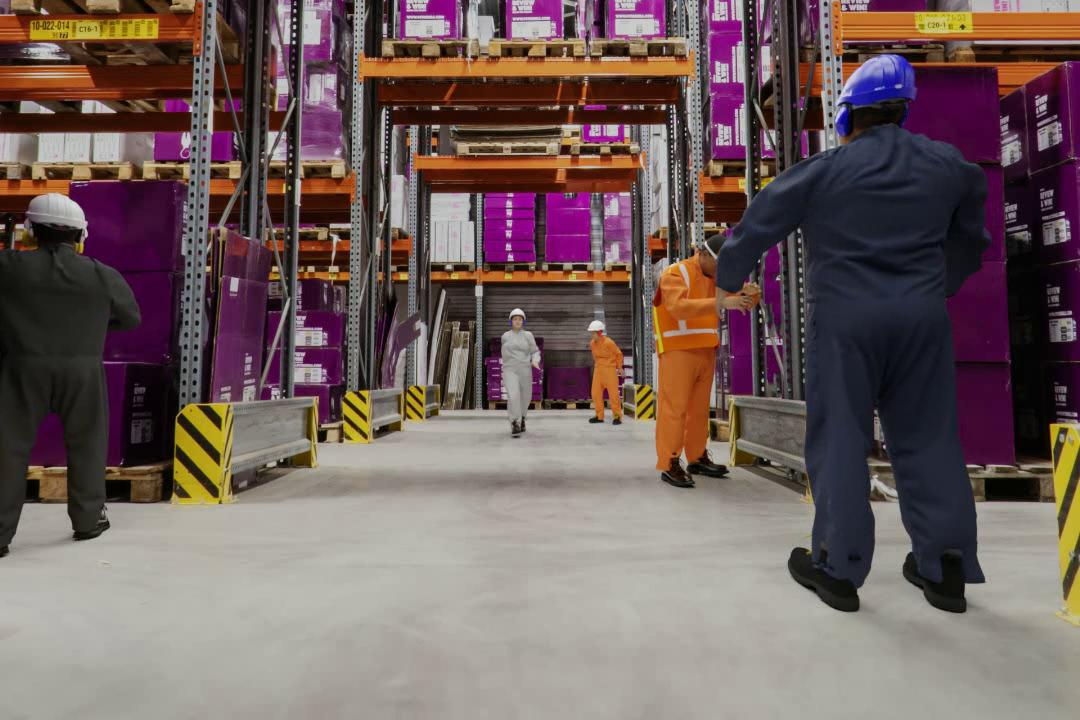Helmet: (832, 51, 920, 110), (22, 190, 95, 236), (507, 305, 530, 323), (585, 318, 607, 334)
Jacket: (655, 264, 720, 351)
Shoes: (787, 542, 866, 616), (895, 548, 979, 617), (65, 504, 115, 548), (686, 446, 734, 483), (657, 451, 694, 493), (589, 412, 605, 428), (508, 420, 523, 437), (612, 412, 625, 430)
